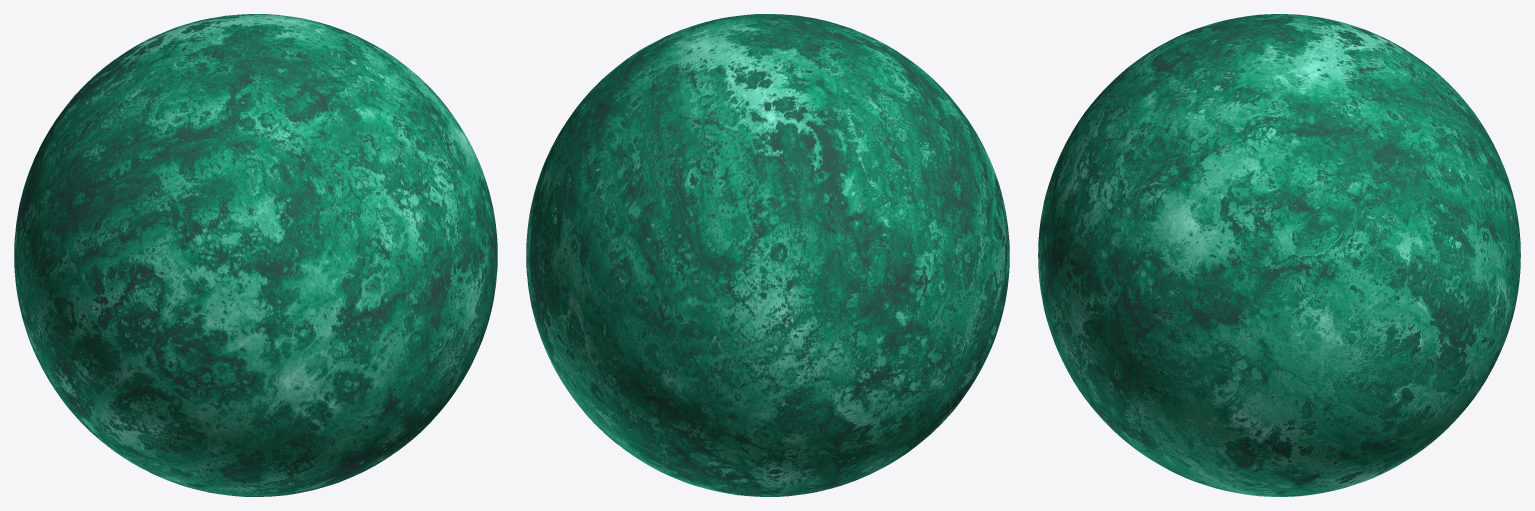
File: Planet X-draco.glb
3 views of the same model, side by side, from view 1: azimuth 30°, elevation 25°; view 2: azimuth 150°, elevation 25°; view 3: azimuth 270°, elevation 25° (orthographic).
Visible parts, largest first — view 1: Sphere_0; view 2: Sphere_0; view 3: Sphere_0.
Part boxes in pixels (x1,y1,x2,y2): Sphere_0: (14,14,497,496); Sphere_0: (526,14,1009,496); Sphere_0: (1038,14,1520,496).
Size of the model in its own units: 300 by 299 by 299.
1 material, 1 textured.
